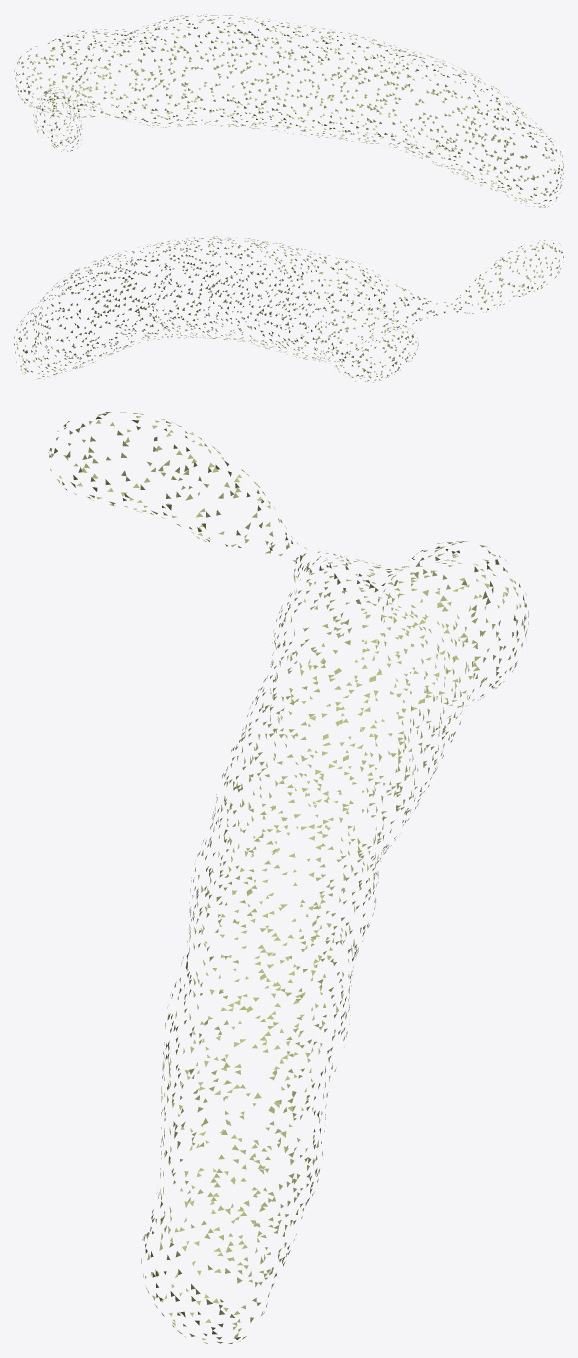
Rendered from morph_010.glb.
3 renders of one model, top to bottom at view 1: azimuth 30°, elevation 25°; view 2: azimuth 150°, elevation 25°; view 3: azimuth 270°, elevation 25°, orthographic. The views are drawn at different scales.
Bounding box in the file's own units: 129 × 55.93 × 52.59.
